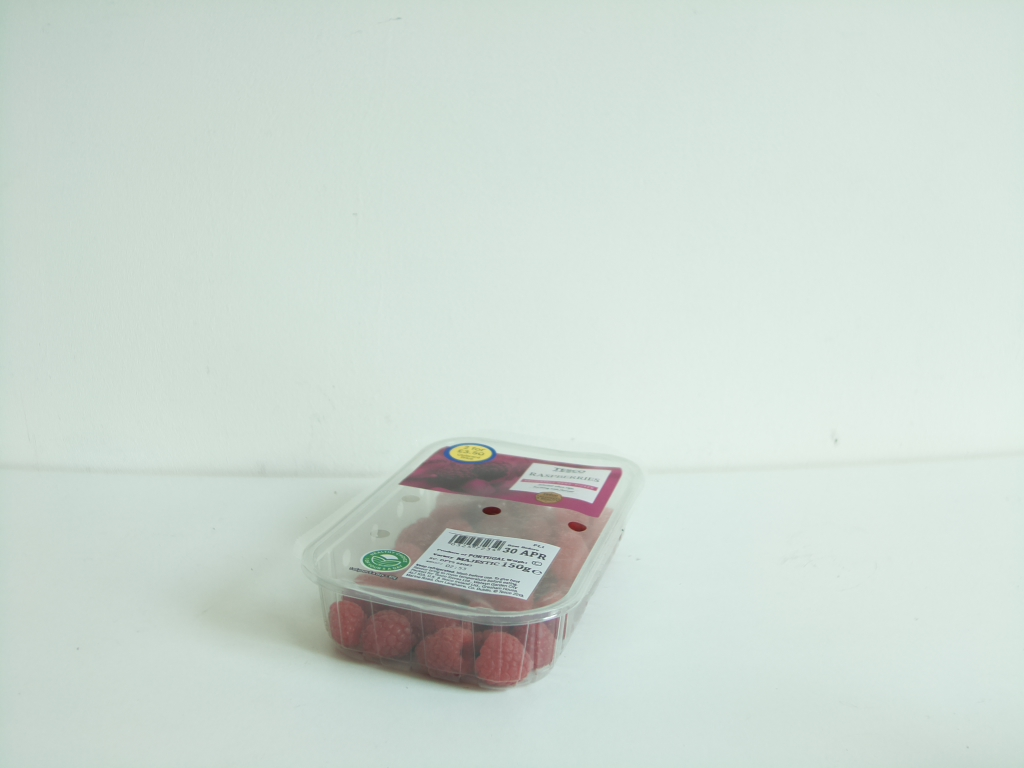soft-fruit: (301, 438, 645, 694)
